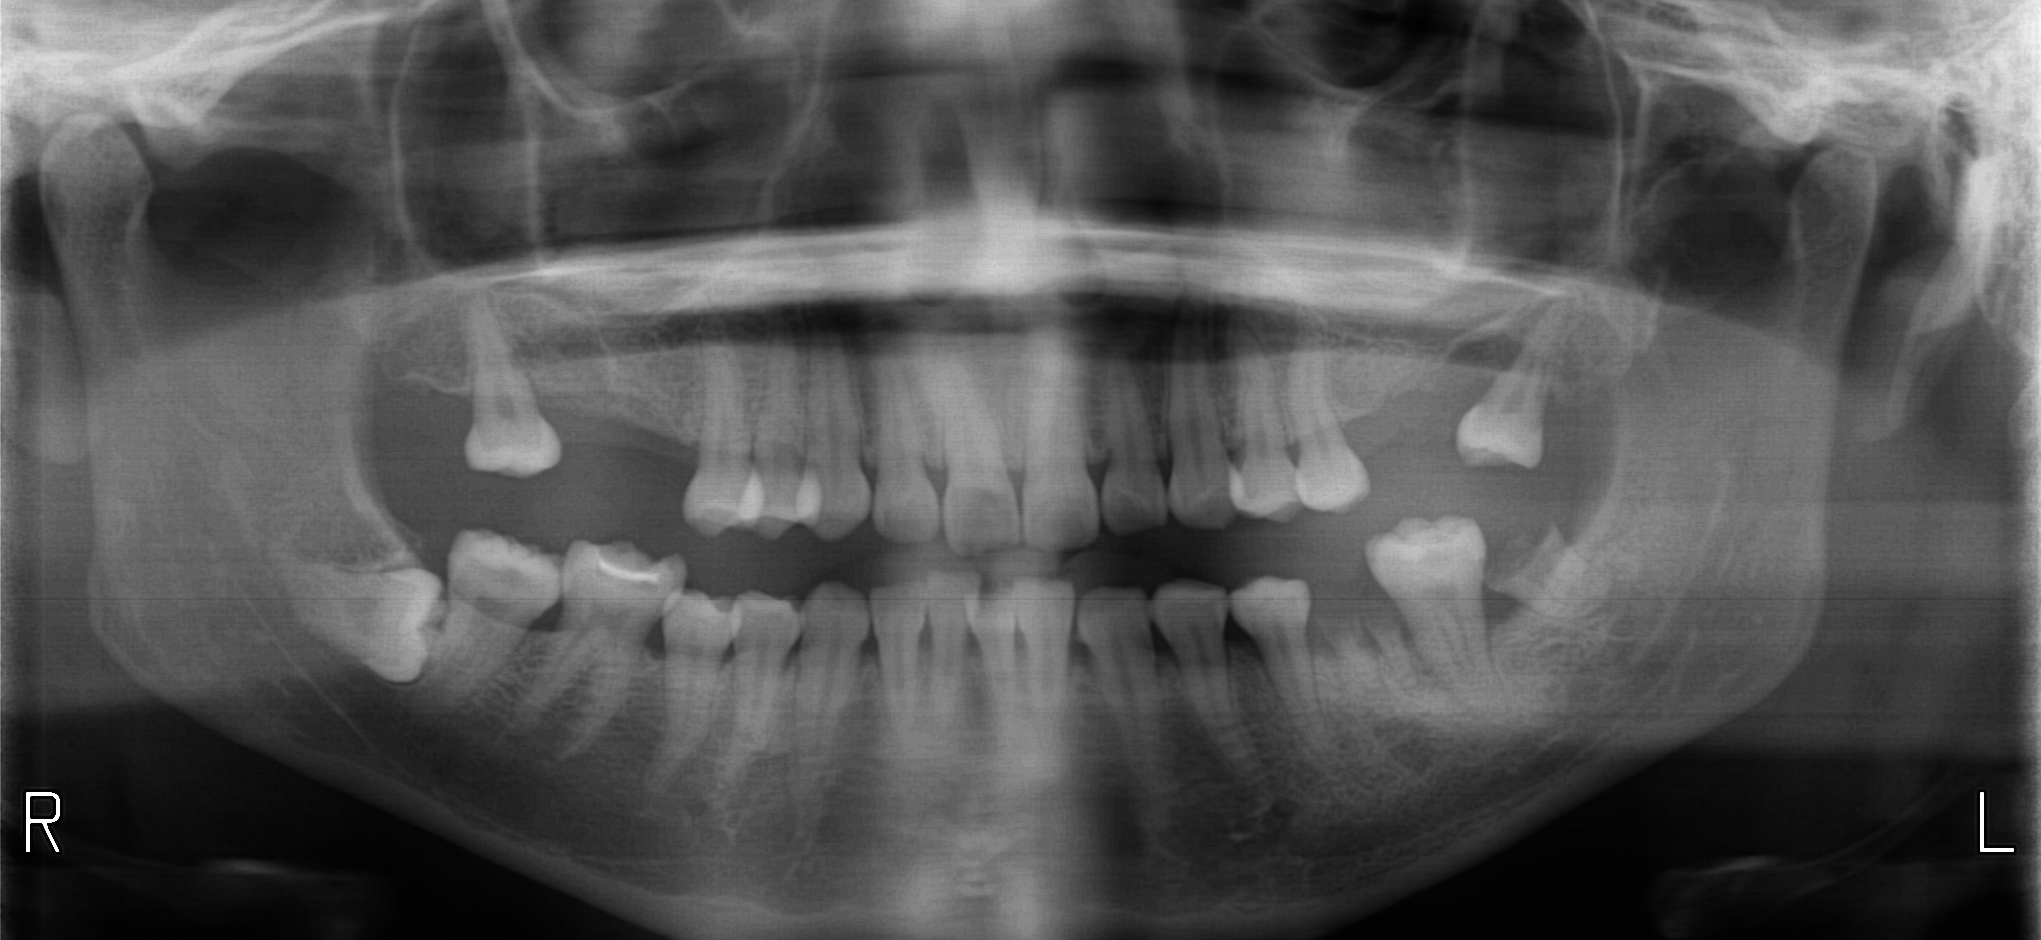cavity: (1109, 463, 1112, 467)
